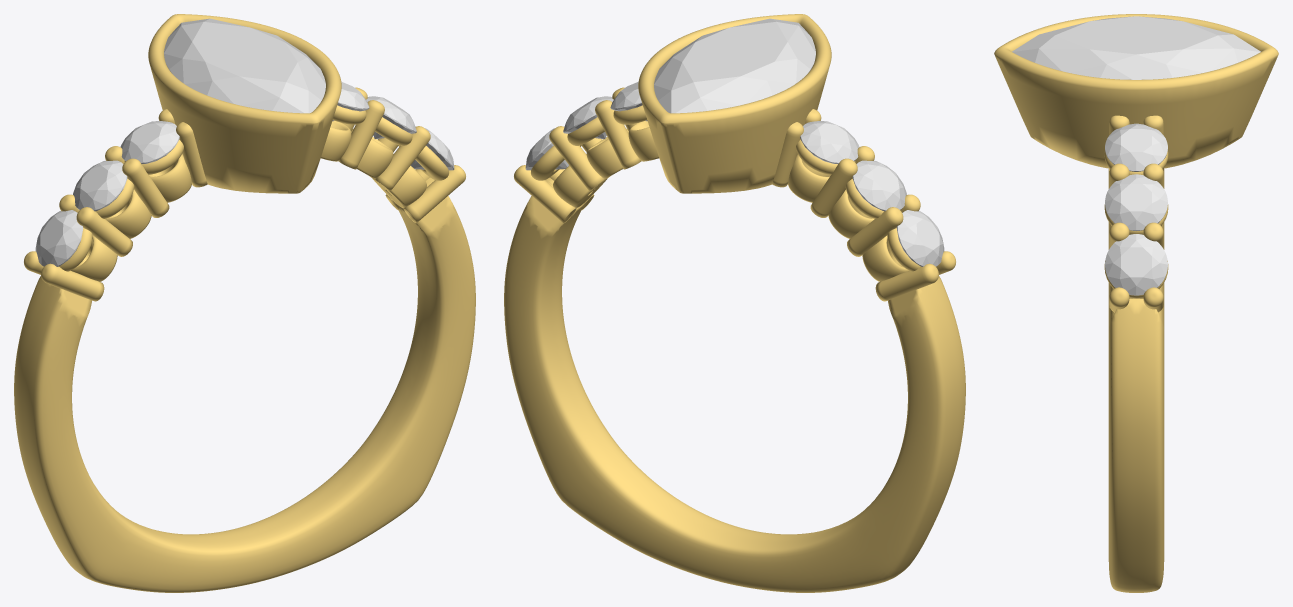
File: diamond-marquise-yellowgold-bezelset-europeanshank-7stone.glb
3 views of the same model, side by side, from view 1: azimuth 30°, elevation 25°; view 2: azimuth 150°, elevation 25°; view 3: azimuth 270°, elevation 25° (orthographic).
Visible parts, largest first — view 1: metal.002, stone.001, side.002, side.013, side.014, side.016, side.017; view 2: metal.002, stone.001, side.002, side.013, side.014, side.016, side.017; view 3: metal.002, stone.001, side.015, side.016, side.017.
Boxes of the visible parts, <box> form: metal.002: <box>14,14,475,592</box>; stone.001: <box>164,18,325,113</box>; side.002: <box>35,210,83,266</box>; side.013: <box>73,160,127,211</box>; side.014: <box>120,121,179,164</box>; side.016: <box>366,96,416,139</box>; side.017: <box>332,81,369,121</box>; metal.002: <box>504,14,965,592</box>; stone.001: <box>654,18,815,113</box>; side.002: <box>896,210,944,266</box>; side.013: <box>852,160,906,211</box>; side.014: <box>800,121,859,164</box>; side.016: <box>563,96,613,139</box>; side.017: <box>610,81,647,121</box>; metal.002: <box>994,14,1278,592</box>; stone.001: <box>1012,16,1260,79</box>; side.015: <box>1105,234,1167,295</box>; side.016: <box>1105,174,1167,230</box>; side.017: <box>1105,123,1167,171</box>.
Size of the model in its own units: 20.1 by 22.73 by 11.31.
